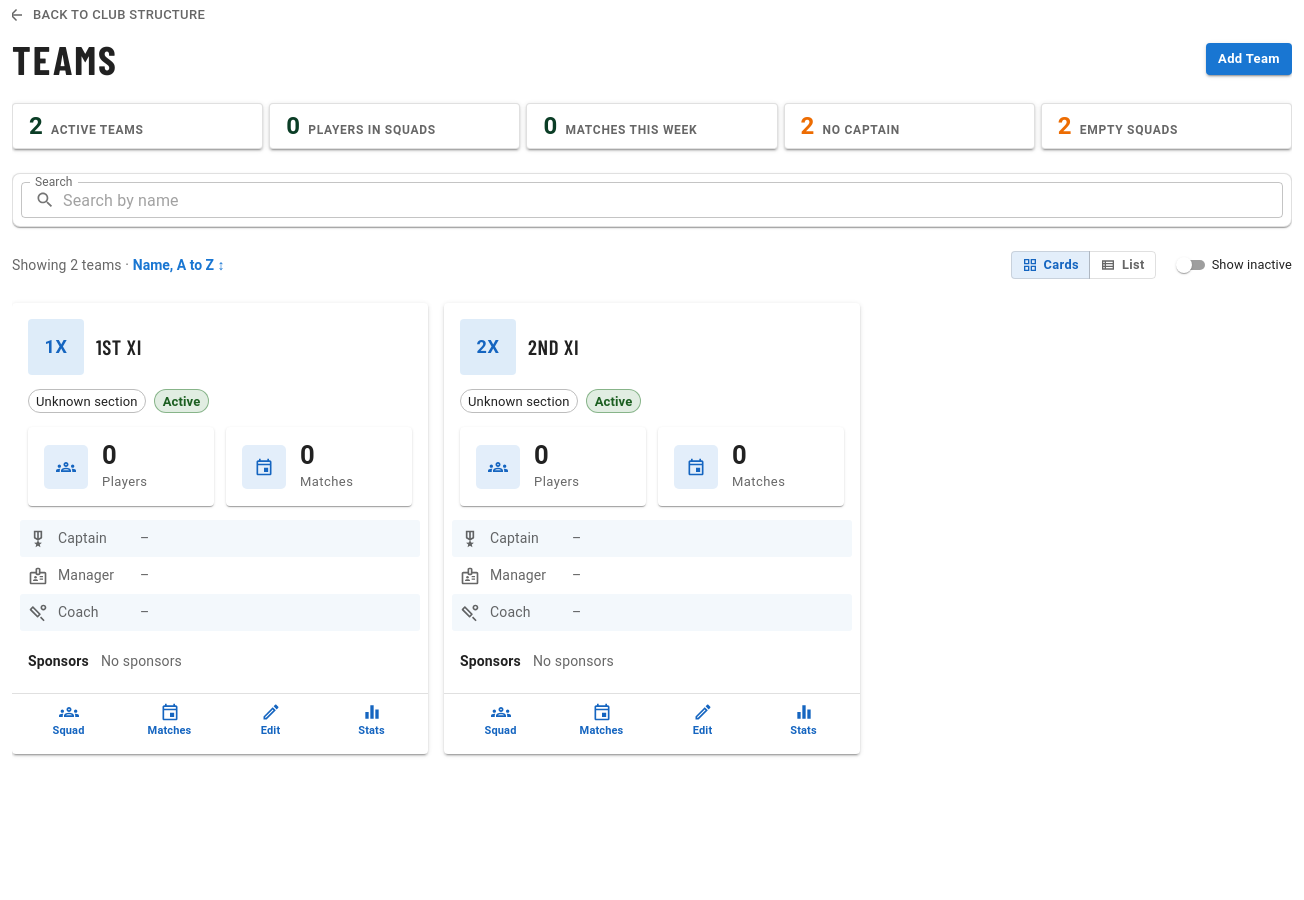
Scenario: TeamList › filters cards by the search term (matched against name)
This screenshot has width=1304, height=900.
Check: the link "1st XI" is shown, box [96,335,142,359]
Check: the link "2nd XI" is shown, box [528,335,579,359]
Type "1st" into the field labelled "Search" at (673, 200), box [63,182,1283,218]
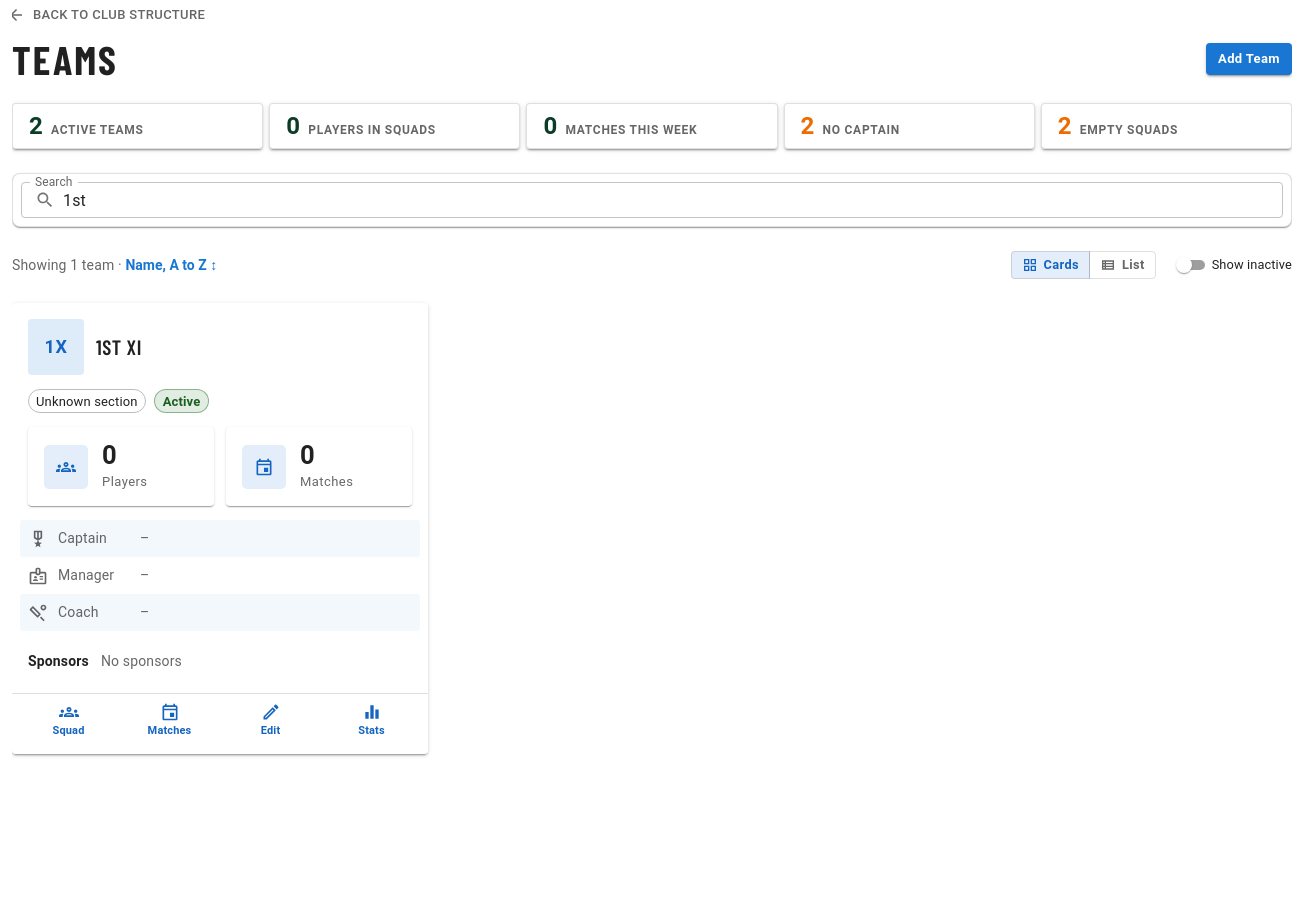
Check: the link "1st XI" is shown, box [96,335,142,359]
Check: the link "2nd XI" is gone
